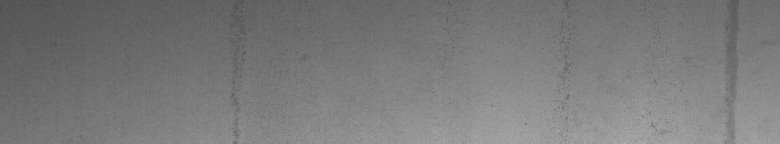ib: (231, 47, 308, 136)
